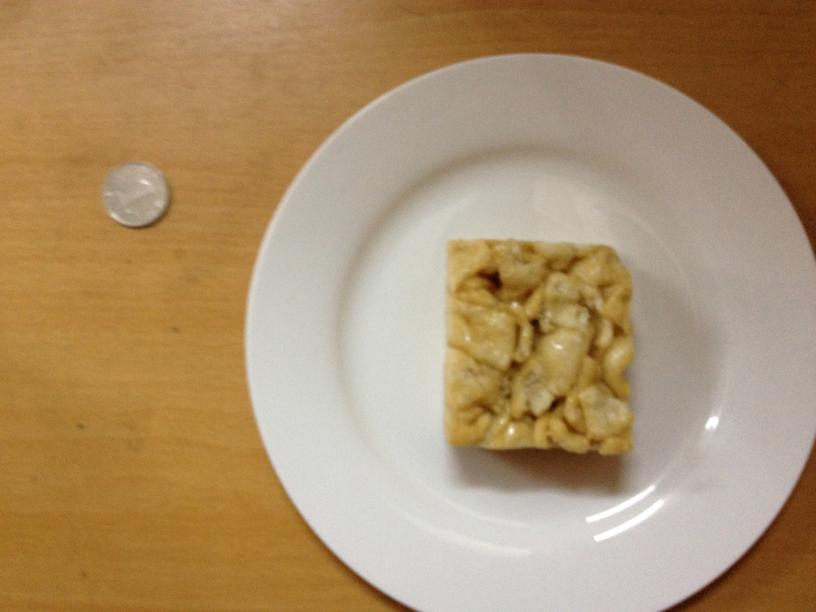coin: (95, 161, 169, 227)
sachima: (439, 239, 634, 453)
